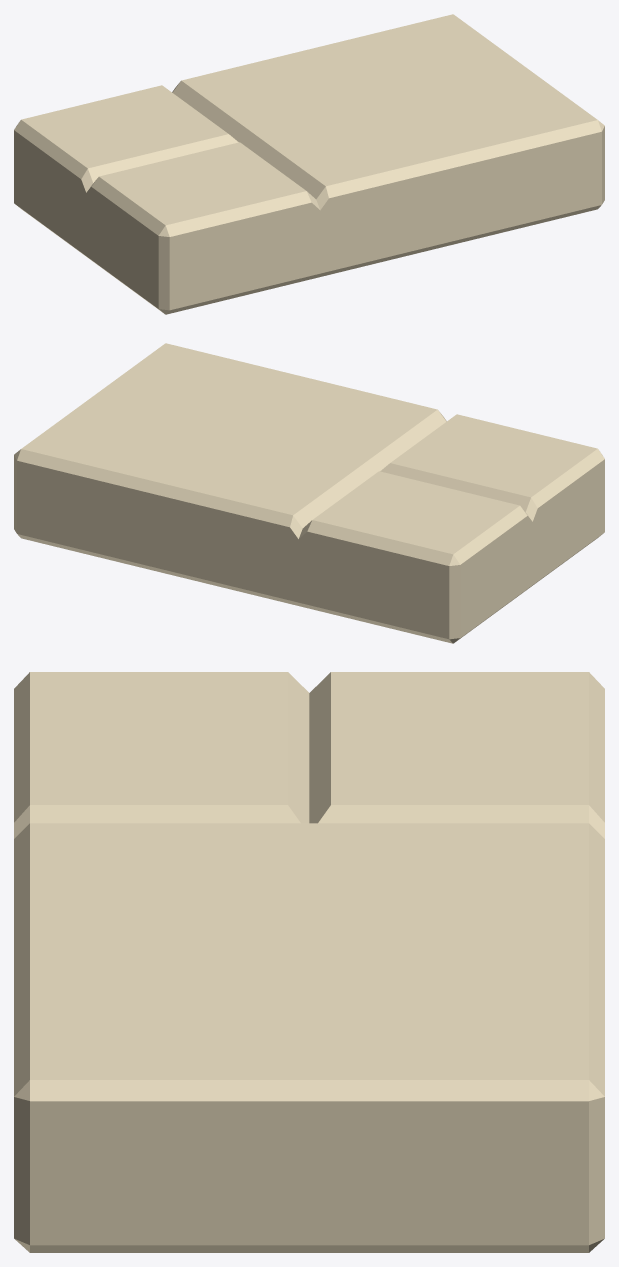
File: SM_Mouse.fbx
3 renders of one model, top to bottom at view 1: azimuth 30°, elevation 25°; view 2: azimuth 150°, elevation 25°; view 3: azimuth 270°, elevation 25°, orthographic. The views are drawn at different scales.
Visible parts, largest first — view 1: Cube.018; view 2: Cube.018; view 3: Cube.018.
Part boxes in pixels (x1,y1,x2,y2): Cube.018: [14, 14, 604, 314]; Cube.018: [14, 343, 604, 643]; Cube.018: [14, 672, 604, 1252].
Bounding box in the file's own units: 12.87 × 21.71 × 4.16.
